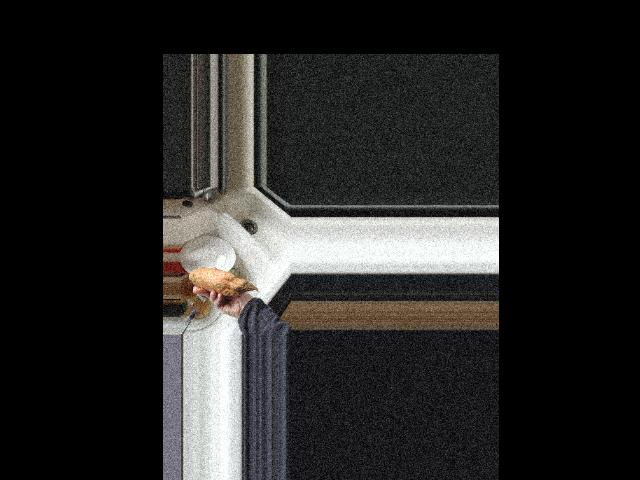sweet_potato: (189, 265, 258, 296)
